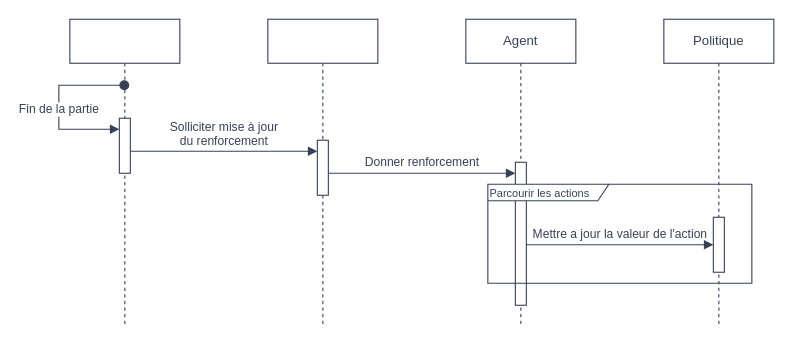
Image size: 793x347. Some labels were removed from this diagram. Each missing label, with the box of its shape:
Contrôleur de l'IA: (267, 18, 378, 327)
Contrôleur du jeu: (69, 18, 180, 327)
